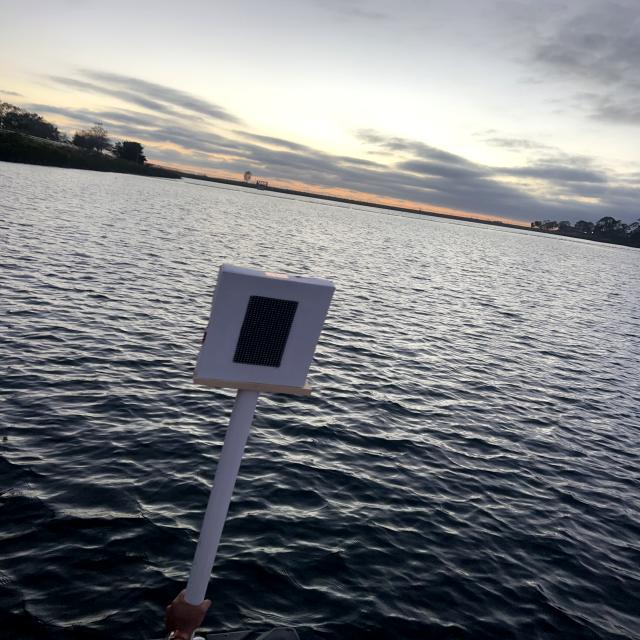led: (223, 278, 312, 384)
